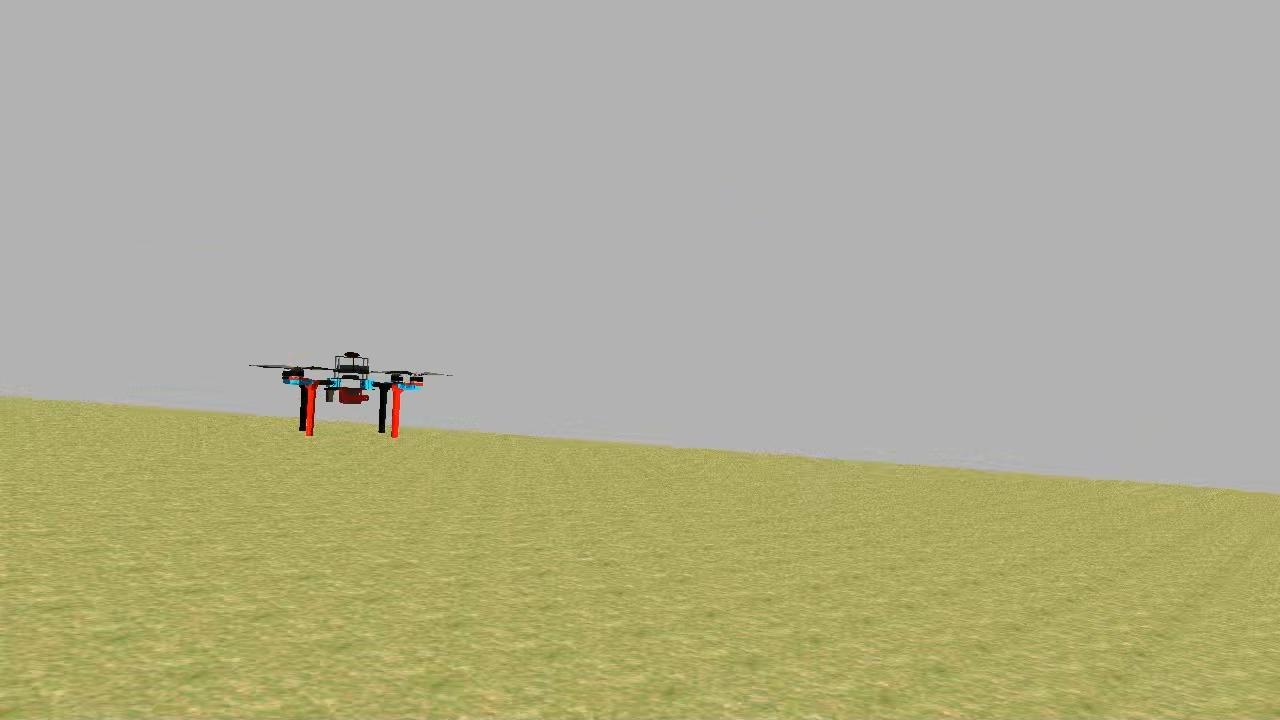UAV: (277, 344, 432, 441)
